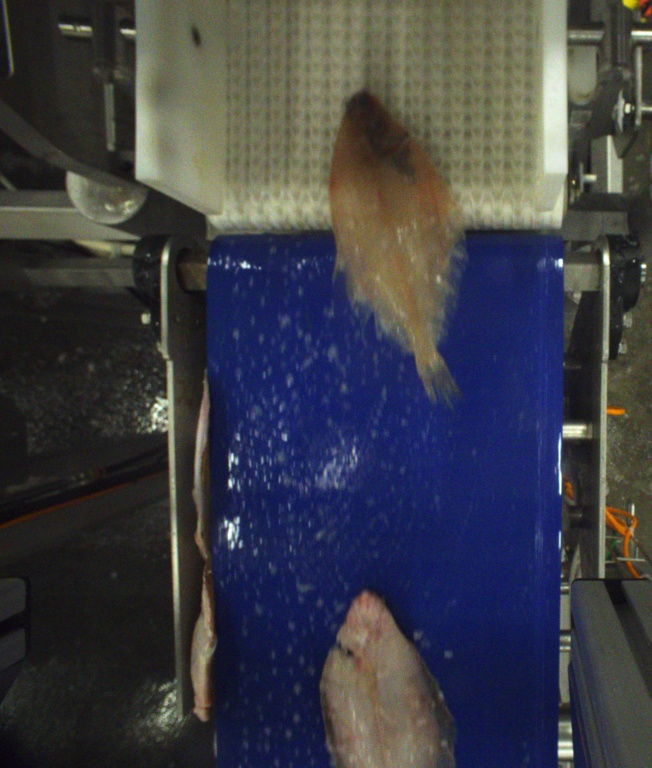WIT: (318, 591, 459, 768)
